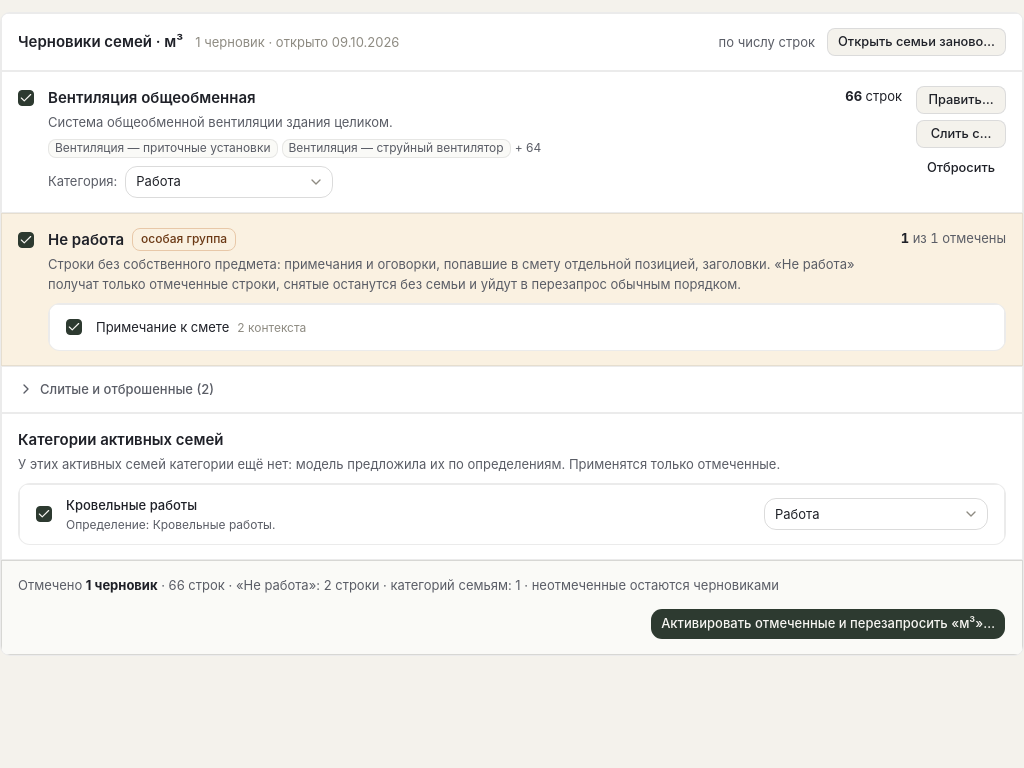
Scenario: DiscoveryDrafts — одна мутация на несколько слитых › «Вернуть»: крутится только кнопка нажатой строки, соседняя заблокирована без крутилки
Click the button "Слитые и отброшенные (2)".
click(116, 389)  # box [18,379,214,400]
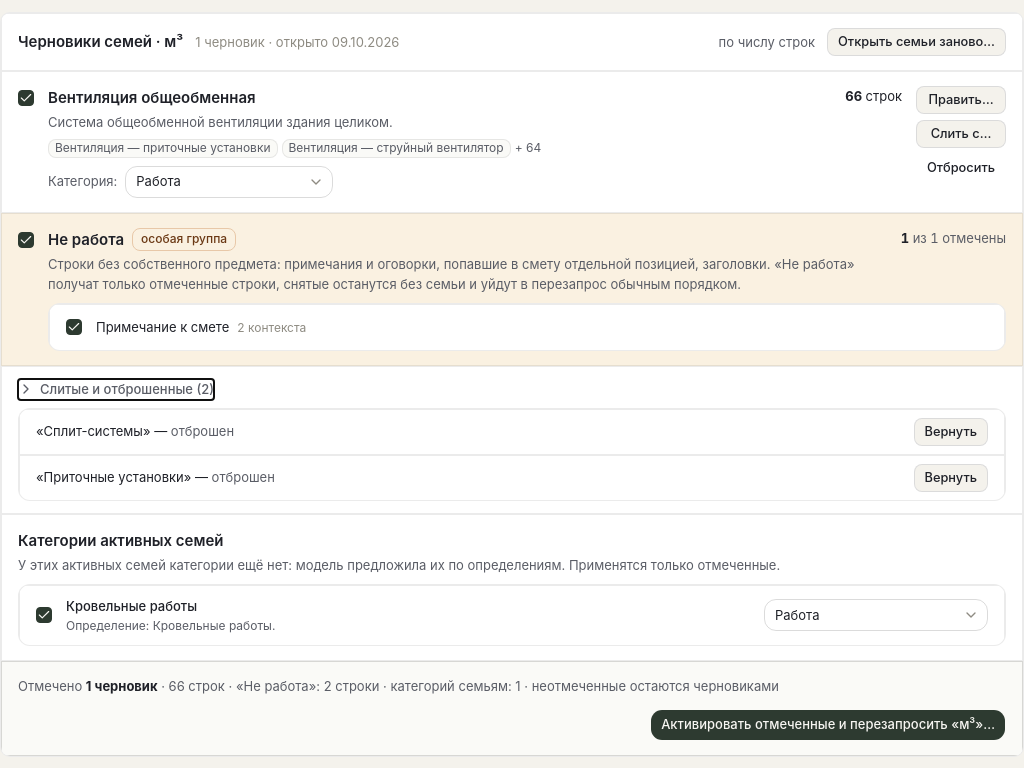
Click the button "Вернуть" in the row of "Сплит-системы".
click(951, 432)  # box [914,418,988,446]
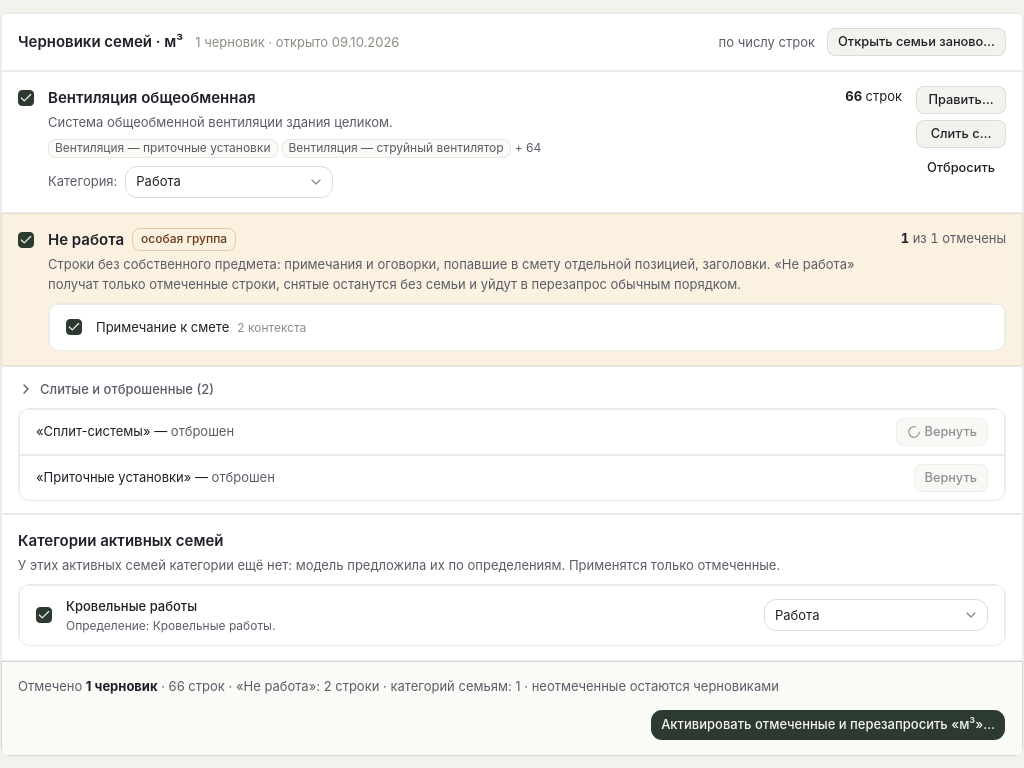
Expected: the 2nd button "Вернуть" is disabled, [914,464,988,492]
